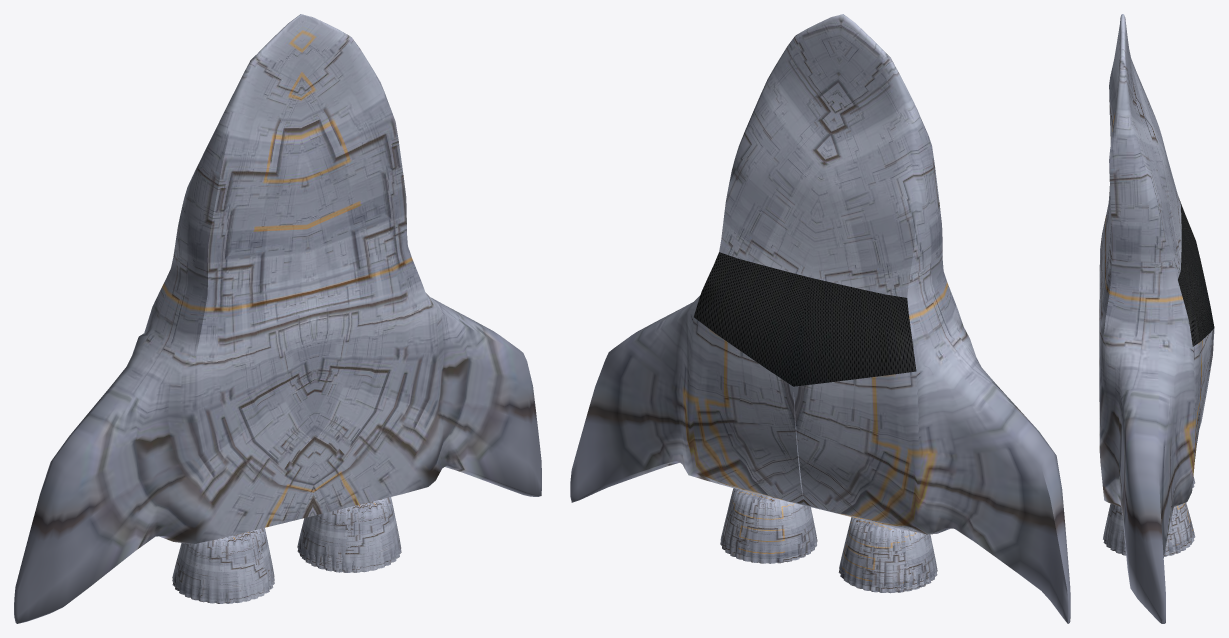
File: ScaledSimpleSpaceShip.fbx
The picture shows the model from 3 angles, left to right: view 1: azimuth 30°, elevation 25°; view 2: azimuth 150°, elevation 25°; view 3: azimuth 270°, elevation 25°; orthographic projection. The views are drawn at different scales.
Visible parts, largest first — view 1: Cube; view 2: Cube; view 3: Cube.
Boxes of the visible parts, left/top/right/bottom form: Cube: left=14, top=14, right=541, bottom=623; Cube: left=570, top=14, right=1070, bottom=623; Cube: left=1099, top=14, right=1214, bottom=623.
Bounding box in the file's own units: 167372 × 172115 × 35825.
